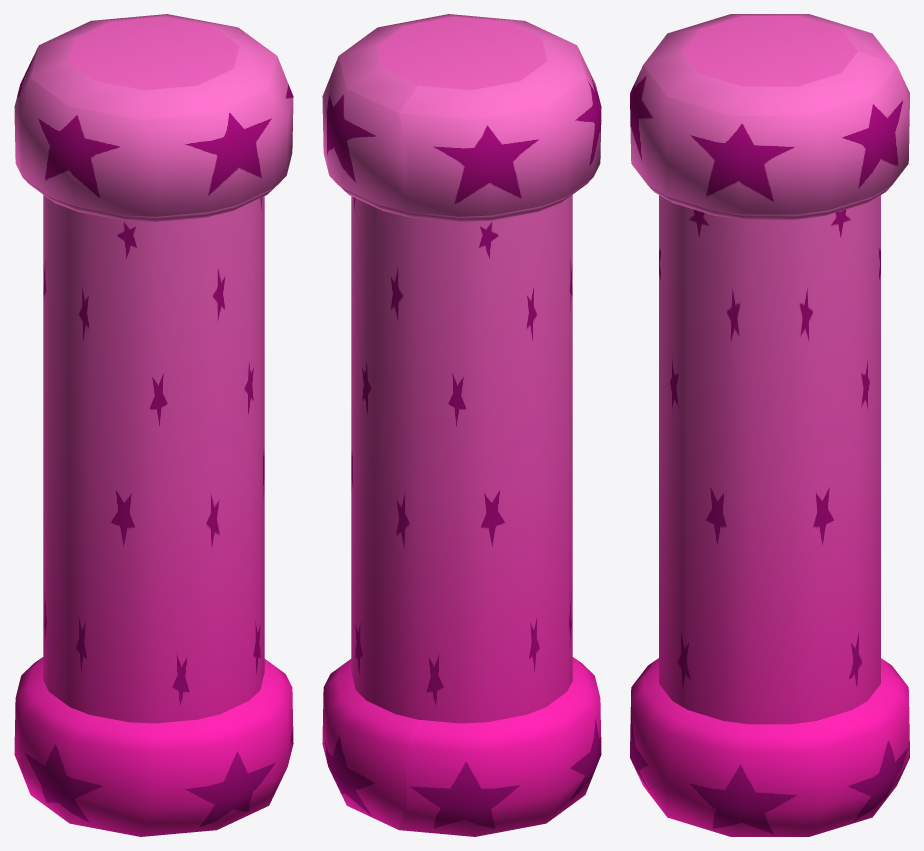
File: SM_Pillar.glb
3 views of the same model, side by side, from view 1: azimuth 30°, elevation 25°; view 2: azimuth 150°, elevation 25°; view 3: azimuth 270°, elevation 25° (orthographic).
Parts seen in each view (by area): view 1: ColumnMid, ColumnTop, ColumnBottom; view 2: ColumnMid, ColumnTop, ColumnBottom; view 3: ColumnMid, ColumnTop, ColumnBottom.
Boxes of the visible parts, <box> form: ColumnMid: <box>43,195,264,723</box>; ColumnTop: <box>14,14,293,221</box>; ColumnBottom: <box>14,657,293,836</box>; ColumnMid: <box>351,195,572,723</box>; ColumnTop: <box>322,14,601,221</box>; ColumnBottom: <box>322,657,601,836</box>; ColumnMid: <box>659,195,880,724</box>; ColumnTop: <box>630,14,909,219</box>; ColumnBottom: <box>630,658,909,836</box>.
Size of what is drawn, in the model's own units: 5 by 14.83 by 5.06.
Materials: 1 (1 with a texture image).
